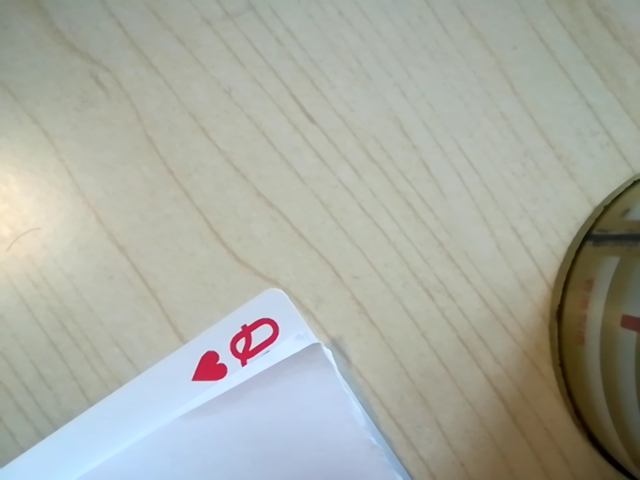hx q: (185, 309, 294, 392)
